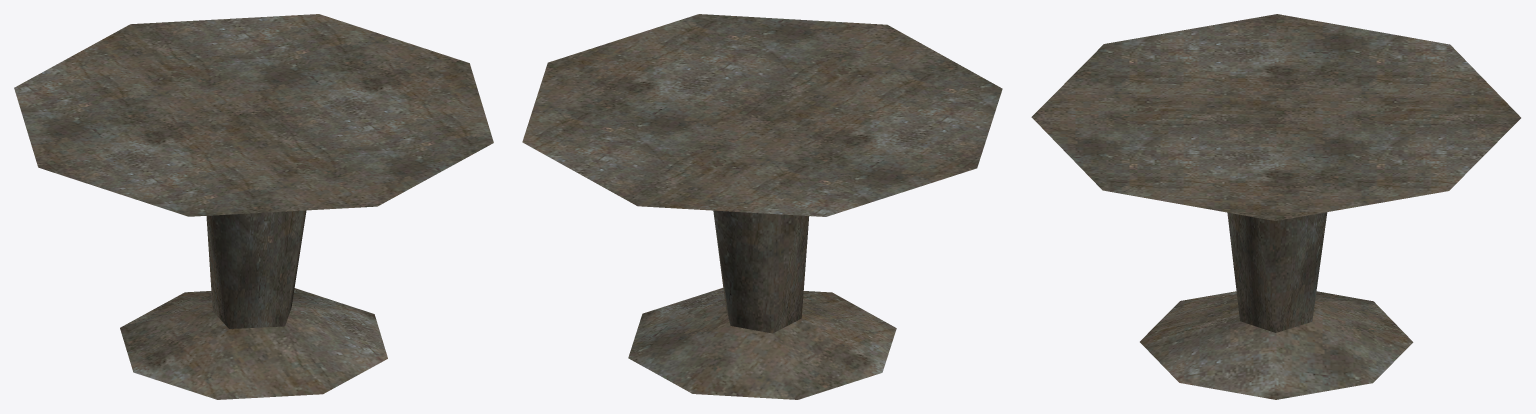
The model's file is frn_tato_tbl_cafe_table_s01_l2.fbx.
The picture shows the model from 3 angles, left to right: view 1: azimuth 30°, elevation 25°; view 2: azimuth 150°, elevation 25°; view 3: azimuth 270°, elevation 25°; orthographic projection.
Parts seen in each view (by area): view 1: mesh_node; view 2: mesh_node; view 3: mesh_node.
Boxes of the visible parts, x1=… form: mesh_node: x1=14, y1=14, x2=493, y2=399; mesh_node: x1=522, y1=14, x2=1002, y2=399; mesh_node: x1=1031, y1=14, x2=1520, y2=399.
Bounding box in the file's own units: 1.43 × 0.7255 × 1.43.
